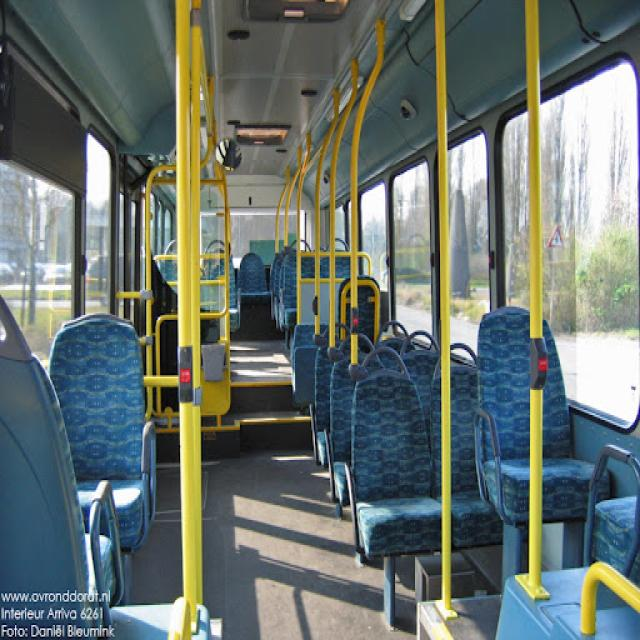empty-seat-frontal: (474, 305, 614, 522), (37, 313, 154, 551), (343, 343, 448, 560)
